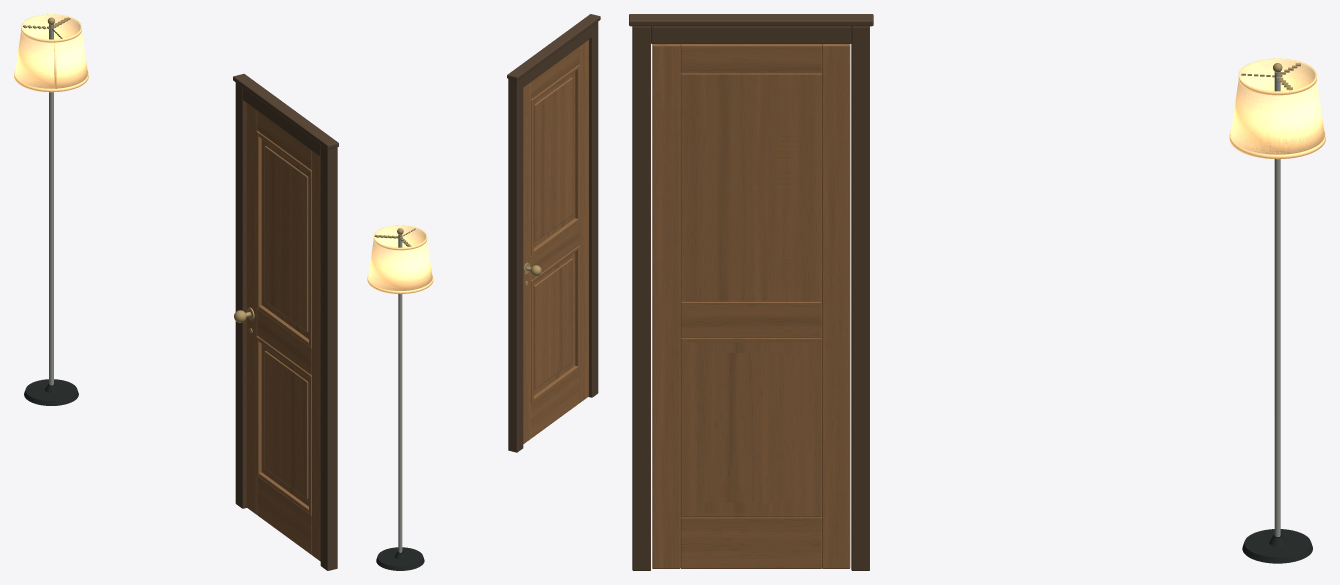
File: pilot-right-limit-v03.glb
3 renders of one model, left to right at view 1: azimuth 30°, elevation 25°; view 2: azimuth 150°, elevation 25°; view 3: azimuth 270°, elevation 25°, orthographic. The views are drawn at different scales.
Visible parts, largest first — view 1: pilot_door_leaf, pilot_door_architrave, pilot_lamp_shade, pilot_lamp_pole, pilot_lamp_base, pilot_lamp_shade_trim; view 2: pilot_door_leaf, pilot_door_architrave, pilot_lamp_shade, pilot_lamp_pole, pilot_lamp_base, pilot_lamp_shade_trim; view 3: pilot_door_leaf, pilot_door_architrave, pilot_lamp_shade, pilot_lamp_pole, pilot_lamp_base, pilot_lamp_shade_trim.
Boxes of the visible parts, x1,y1,x2,y2 form: pilot_door_leaf: (246, 103, 320, 561); pilot_door_architrave: (233, 74, 338, 570); pilot_lamp_shade: (15, 14, 87, 88); pilot_lamp_pole: (49, 24, 53, 385); pilot_lamp_base: (24, 379, 78, 405); pilot_lamp_shade_trim: (14, 14, 88, 92); pilot_door_leaf: (523, 39, 588, 443); pilot_door_architrave: (507, 14, 600, 452); pilot_lamp_shade: (368, 225, 432, 290); pilot_lamp_pole: (398, 234, 402, 552); pilot_lamp_base: (376, 547, 424, 570); pilot_lamp_shade_trim: (367, 225, 433, 293); pilot_door_leaf: (652, 44, 850, 568); pilot_door_architrave: (629, 14, 873, 570); pilot_lamp_shade: (1230, 59, 1324, 154); pilot_lamp_pole: (1274, 72, 1280, 537); pilot_lamp_base: (1242, 529, 1312, 563); pilot_lamp_shade_trim: (1229, 58, 1325, 159).
Size of the model in its own units: 0.3605 by 2.15 by 2.46.
Materials: 8 (2 with a texture image).
